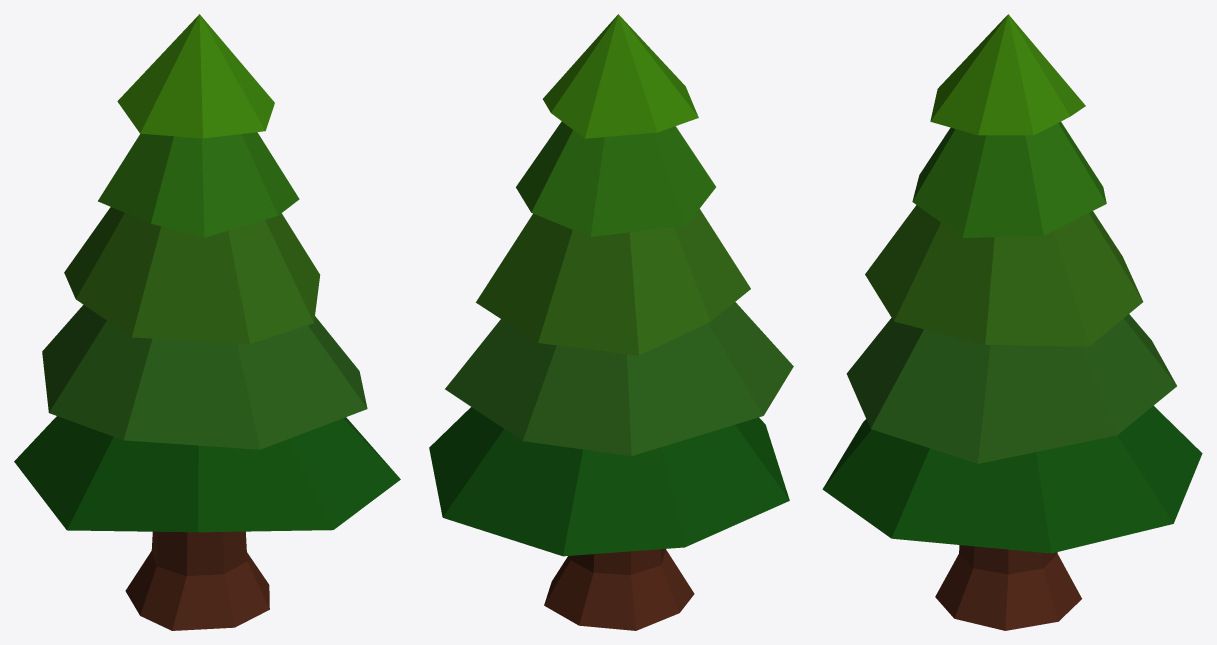
File: çamağacı.fbx
3 views of the same model, side by side, from view 1: azimuth 30°, elevation 25°; view 2: azimuth 150°, elevation 25°; view 3: azimuth 270°, elevation 25° (orthographic).
Parts seen in each view (by area): view 1: Cylinder.004; view 2: Cylinder.004; view 3: Cylinder.004.
Boxes of the visible parts, x1,y1,x2,y2 form: Cylinder.004: (14,14,400,630); Cylinder.004: (429,14,793,630); Cylinder.004: (822,14,1202,630).
Bounding box in the file's own units: 310 × 541 × 319.
